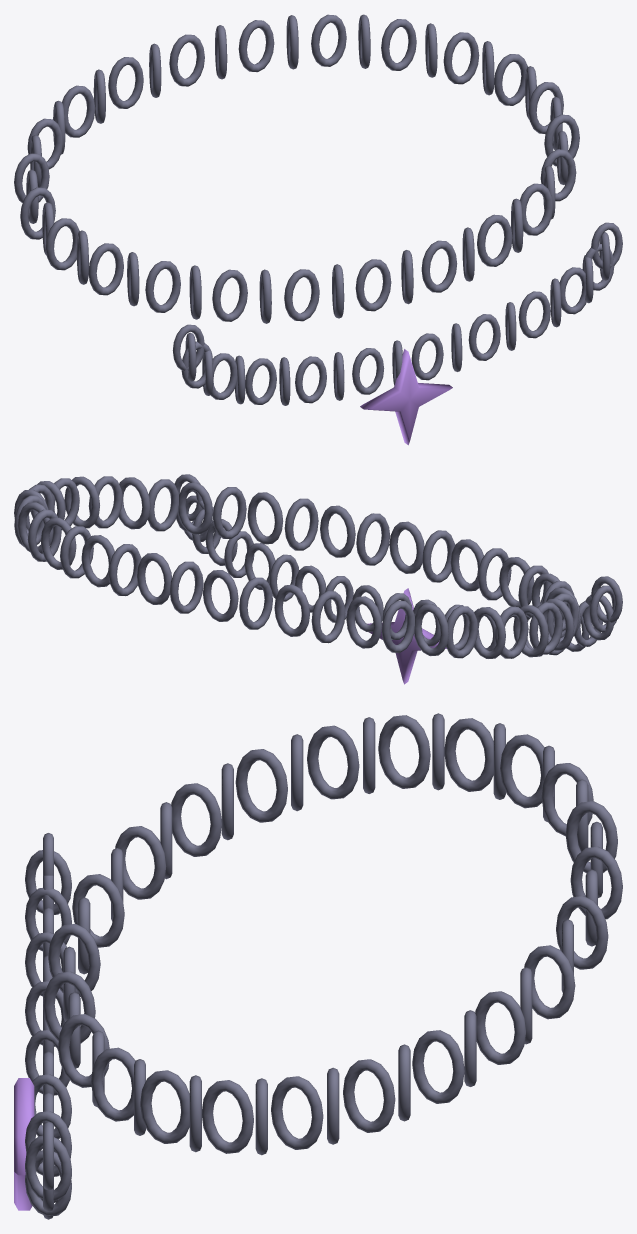
File: noir_chain_collar.glb
3 views of the same model, one above another, from view 1: azimuth 30°, elevation 25°; view 2: azimuth 150°, elevation 25°; view 3: azimuth 270°, elevation 25° (orthographic). The views are drawn at different scales.
Visible parts, largest first — view 1: noir_chain_collar_metal, noir_chain_collar_gem; view 2: noir_chain_collar_metal, noir_chain_collar_gem; view 3: noir_chain_collar_metal, noir_chain_collar_gem.
Boxes of the visible parts, box(x1,y1,x2,y2) form: noir_chain_collar_metal: box(14, 14, 622, 405); noir_chain_collar_gem: box(360, 349, 452, 445); noir_chain_collar_metal: box(14, 474, 622, 658); noir_chain_collar_gem: box(367, 588, 446, 684); noir_chain_collar_metal: box(25, 713, 622, 1219); noir_chain_collar_gem: box(14, 1078, 34, 1210).
Bounding box in the file's own units: 0.2131 × 0.102 × 0.1498.
